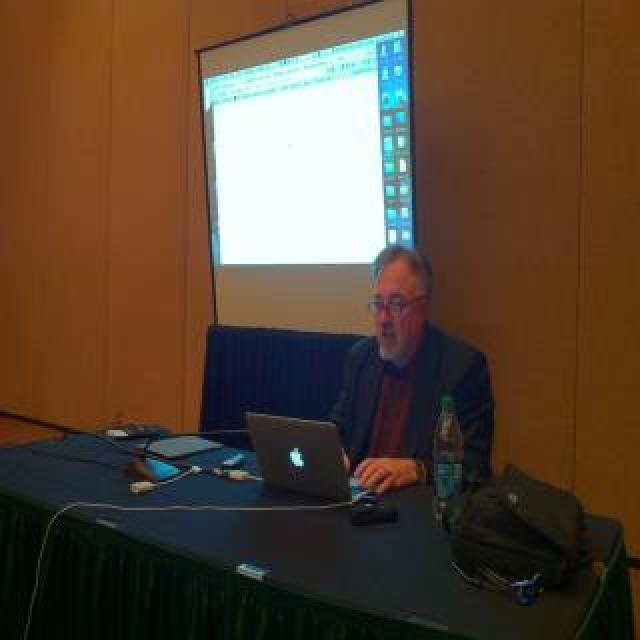laptop_computer: (245, 408, 369, 505)
